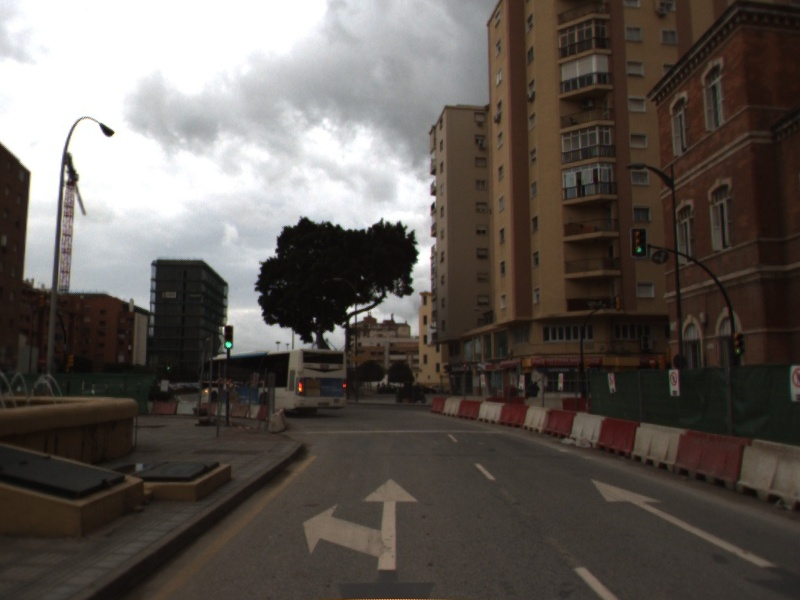STRAIGHT: (590, 478, 776, 569)
STRAIGHT_LEFT: (300, 475, 422, 572)
